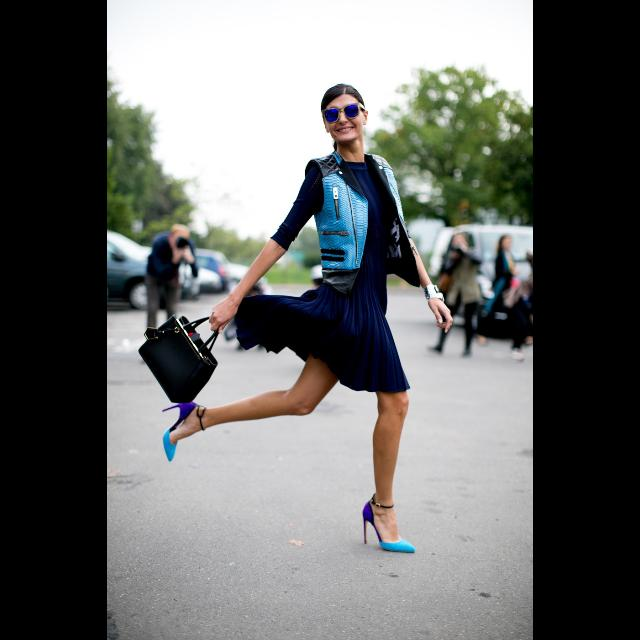head: (321, 82, 369, 142), (168, 224, 192, 254), (451, 233, 469, 249), (500, 235, 512, 251)
person: (133, 79, 455, 558), (142, 218, 200, 362), (428, 228, 488, 358), (479, 233, 533, 355)
